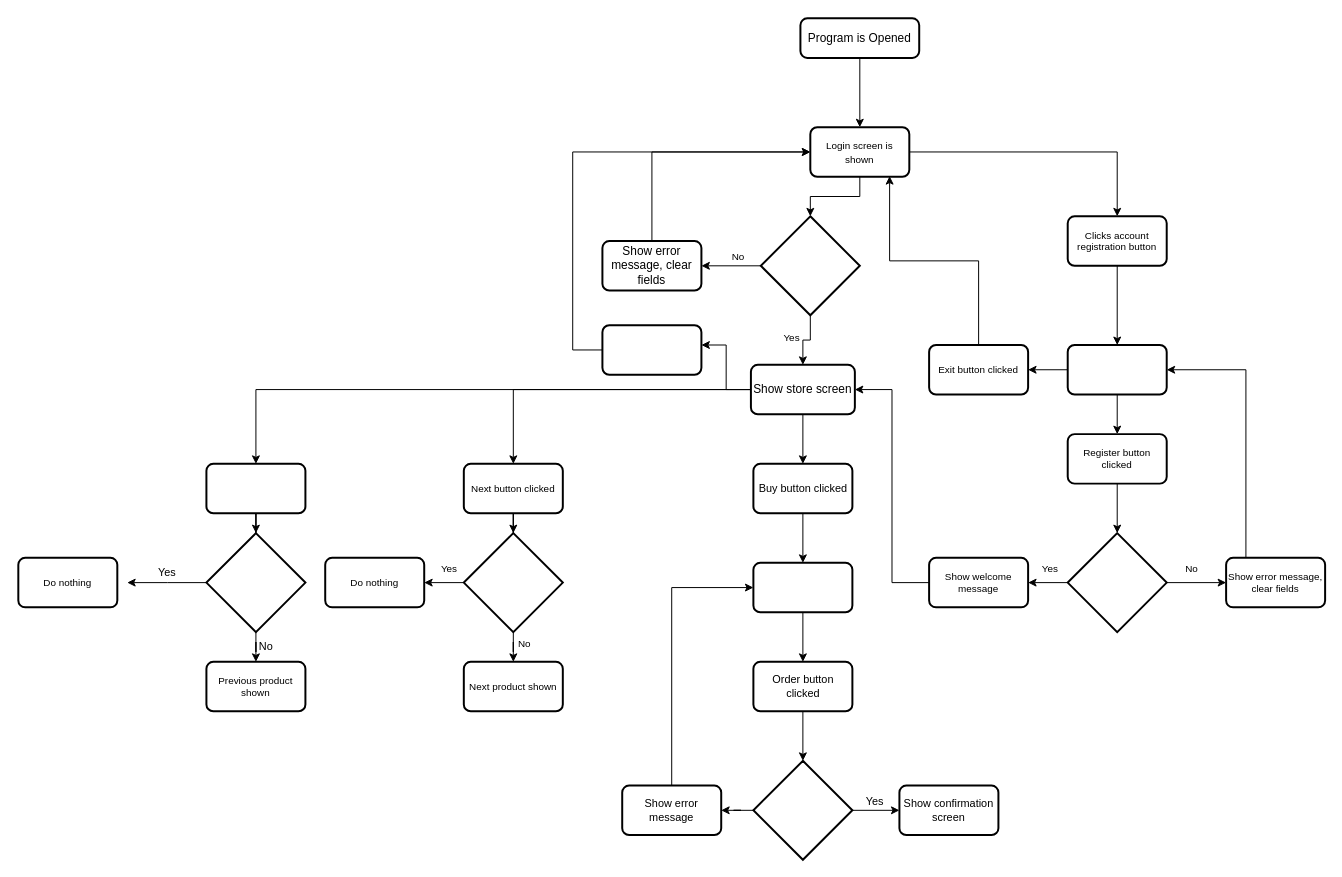
Image size: 1342x877. Some labels were removed from this diagram. Here are the shapes that lost their labels. From the top down, the centre of each, then its label:
(809,265): Valid credentials entered
(651,349): Log off button clicked
(1116,369): Show registration screen
(255,488): Previous button clicked
(255,582): Is current product the first one?
(512,582): Is current product the last one?
(802,587): Show order page
(1116,582): All fields filled
(802,809): Is a payment method selected?
